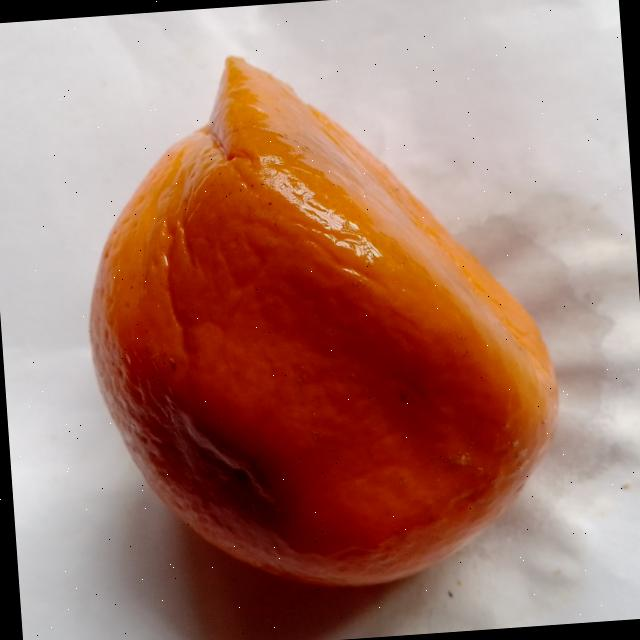Rotten: (69, 34, 566, 602)
